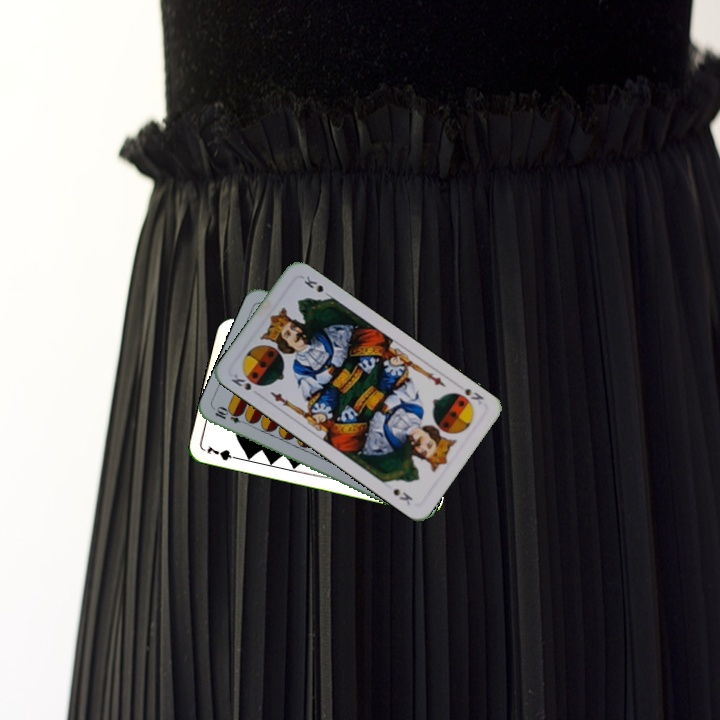E10: (211, 404, 251, 427)
G7: (203, 442, 243, 463)
SK: (227, 370, 254, 393), (460, 384, 487, 407)
